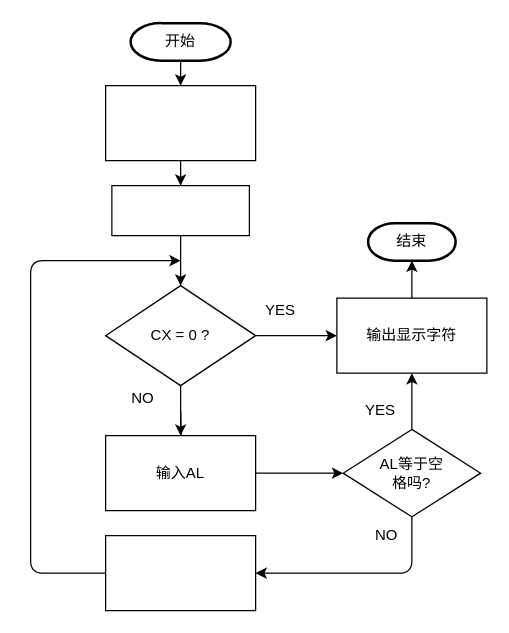
This 509x633 diagram has some shape labels left out. Here are the shapes that lost their labels. From the top down, the box of each, then its label:
(104, 84, 256, 161): 将数据段基址赋值给DS,彩色显示缓冲区的基址赋值给ES
(111, 184, 249, 236): SI = 0 CX = 10
(104, 534, 256, 611): 保存字符到数据段中
